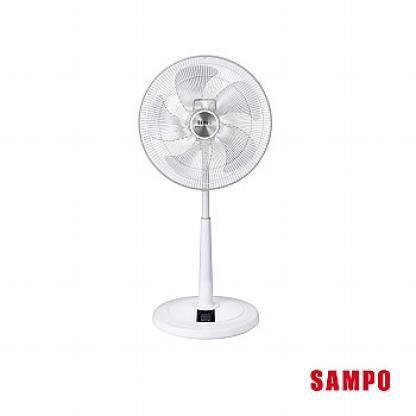fan: (136, 49, 277, 343)
